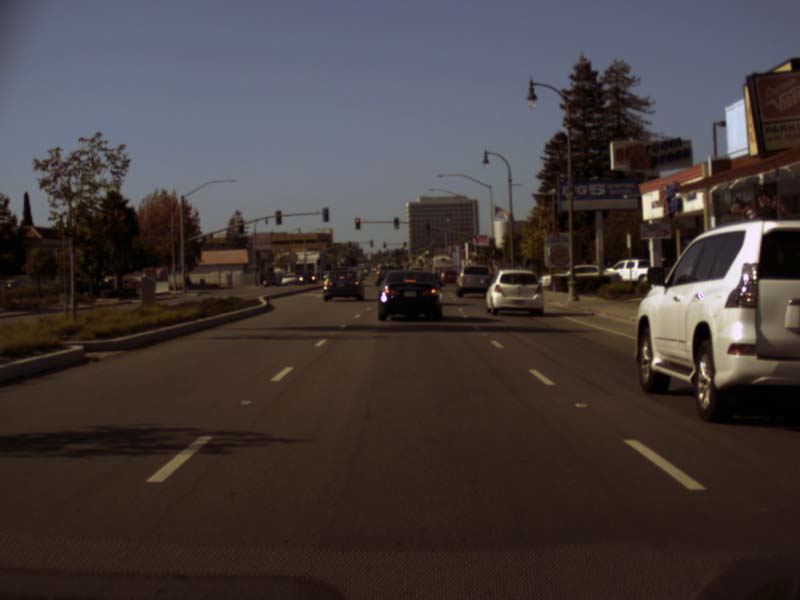Green: (393, 217, 398, 229), (425, 223, 429, 233)
Red: (354, 217, 359, 229)
